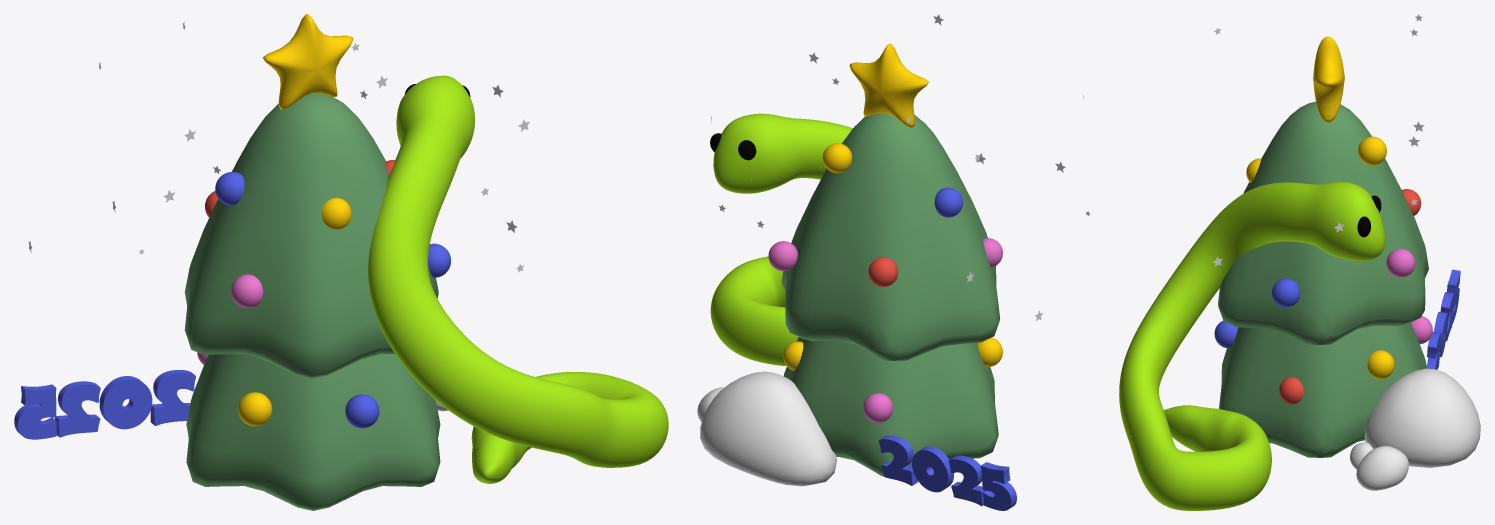
The picture shows the model from 3 angles, left to right: view 1: azimuth 30°, elevation 25°; view 2: azimuth 150°, elevation 25°; view 3: azimuth 270°, elevation 25°; orthographic projection. The views are drawn at different scales.
Parts seen in each view (by area): view 1: Cylinder.002, Zmeya, Cylinder.001, Text, Zvezda, Sphere.011, Sphere.009, Sphere.007, Sphere, Sphere.006, Snezinki; view 2: Cylinder.002, Cylinder.001, Zmeya, Sphere.018, Text, Zvezda, Sphere.008, Sphere.002, Sphere.003, Sphere.010, Sphere, Sphere.009 (+2 smaller); view 3: Zmeya, Cylinder.002, Cylinder.001, Sphere.018, Zvezda, Text, Sphere.002, Sphere.010, Sphere.001, Sphere.013, Sphere.012, Sphere.011 (+1 smaller).
Boxes of the visible parts, bbox=[...] form: Cylinder.002: bbox=[184, 93, 438, 378]; Zmeya: bbox=[368, 75, 668, 483]; Cylinder.001: bbox=[186, 354, 440, 510]; Text: bbox=[14, 370, 195, 439]; Zvezda: bbox=[263, 14, 353, 109]; Sphere.011: bbox=[345, 394, 379, 428]; Sphere.009: bbox=[238, 392, 272, 426]; Sphere.007: bbox=[231, 274, 263, 308]; Sphere: bbox=[215, 172, 244, 205]; Sphere.006: bbox=[321, 198, 351, 229]; Snezinki: bbox=[28, 22, 529, 272]; Cylinder.002: bbox=[781, 113, 999, 360]; Cylinder.001: bbox=[783, 337, 998, 476]; Zmeya: bbox=[710, 113, 852, 365]; Sphere.018: bbox=[697, 371, 836, 486]; Text: bbox=[878, 435, 1016, 510]; Zvezda: bbox=[849, 43, 928, 127]; Sphere.008: bbox=[863, 393, 893, 422]; Sphere.002: bbox=[822, 143, 852, 173]; Sphere.003: bbox=[868, 257, 898, 286]; Sphere.010: bbox=[768, 241, 797, 270]; Sphere: bbox=[934, 187, 963, 217]; Sphere.009: bbox=[977, 337, 1002, 366]; Zmeya: bbox=[1119, 182, 1385, 510]; Cylinder.002: bbox=[1218, 101, 1428, 344]; Cylinder.001: bbox=[1219, 322, 1426, 457]; Sphere.018: bbox=[1350, 368, 1480, 490]; Zvezda: bbox=[1313, 36, 1344, 122]; Text: bbox=[1426, 269, 1460, 369]; Sphere.002: bbox=[1358, 136, 1386, 165]; Sphere.010: bbox=[1386, 248, 1415, 277]; Sphere.001: bbox=[1271, 278, 1300, 307]; Sphere.013: bbox=[1367, 350, 1394, 379]; Sphere.012: bbox=[1279, 377, 1303, 404]; Sphere.011: bbox=[1214, 321, 1238, 348].
Size of the model in its own units: 1.67 by 1.47 by 1.25.
